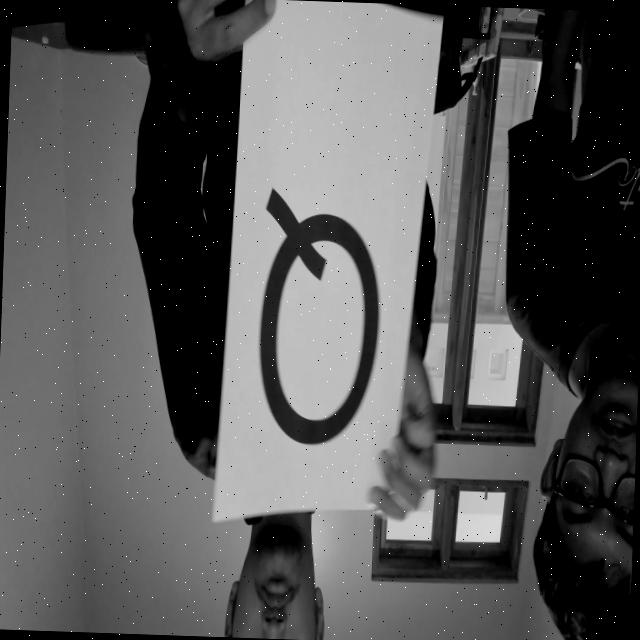q: (237, 141, 405, 478)
